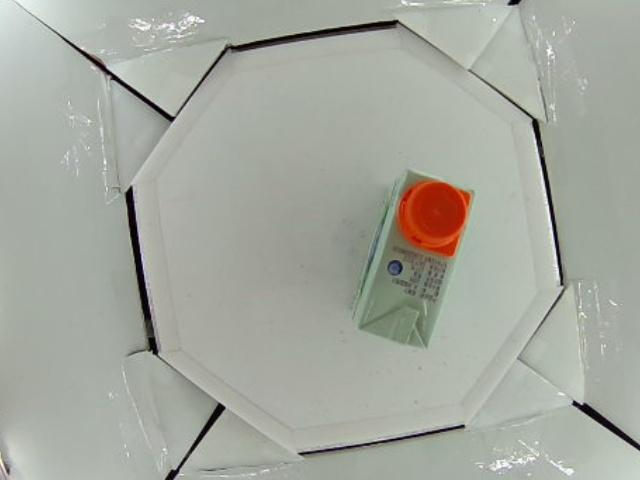Bottle: (352, 163, 473, 348)
